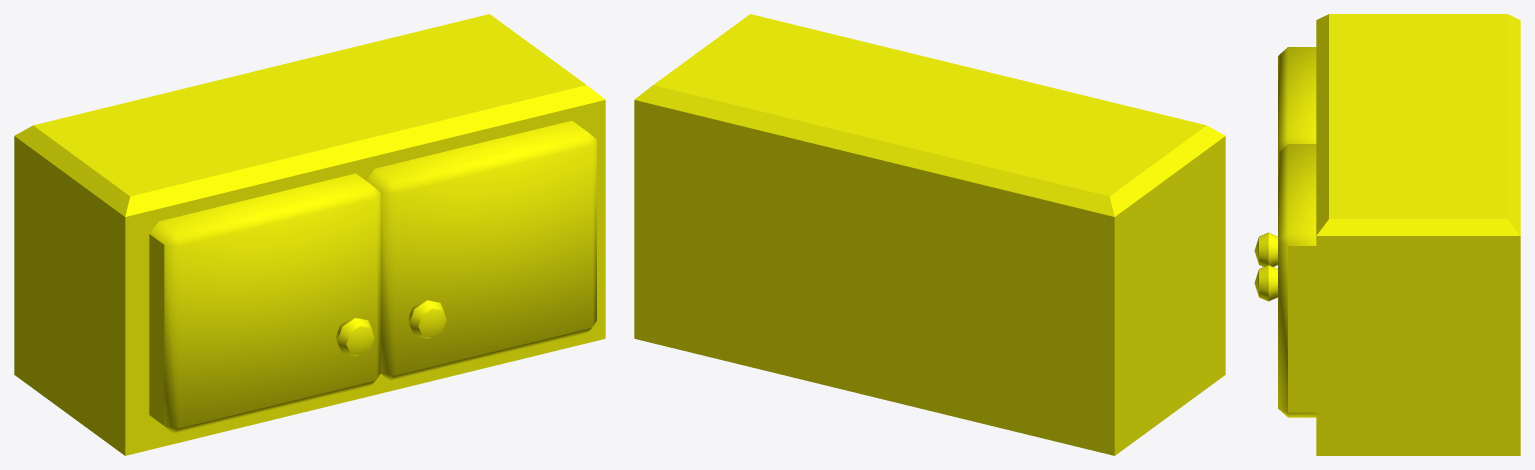
Rendered from kaykit-kitchencabinet-half.glb.
3 views of the same model, side by side, from view 1: azimuth 30°, elevation 25°; view 2: azimuth 150°, elevation 25°; view 3: azimuth 270°, elevation 25° (orthographic). The views are drawn at different scales.
Parts seen in each view (by area): view 1: kitchencabinet_half; view 2: kitchencabinet_half; view 3: kitchencabinet_half.
Boxes of the visible parts, box(x1,y1,x2,y2) form: kitchencabinet_half: box(14, 14, 605, 455); kitchencabinet_half: box(634, 14, 1225, 455); kitchencabinet_half: box(1254, 14, 1520, 455).
Bounding box in the file's own units: 2 × 1 × 1.04.
